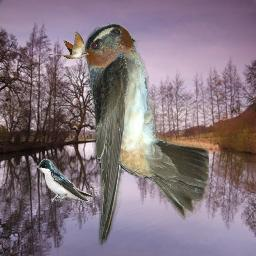Cuckoo: (49, 31, 89, 59)
Swallow: (83, 23, 209, 249), (36, 158, 94, 203)
